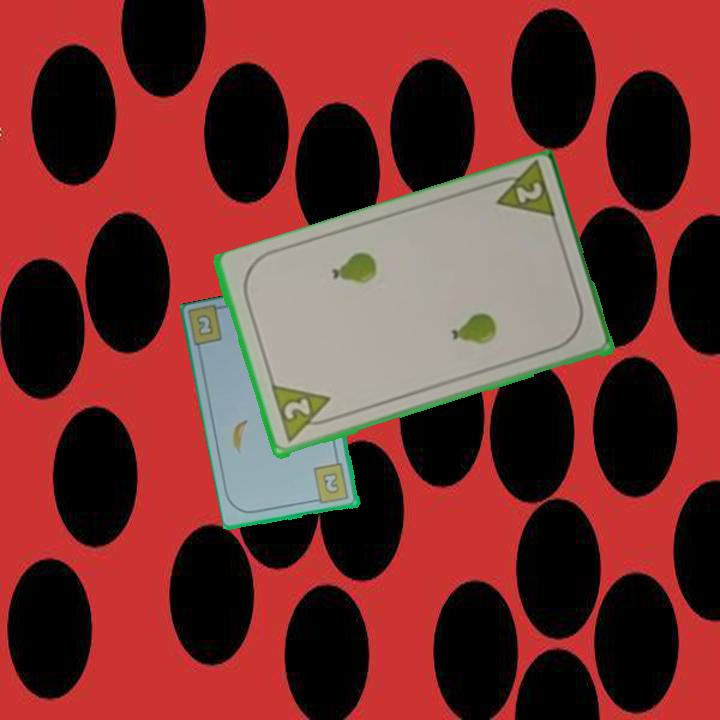2b: (310, 460, 352, 507), (193, 311, 216, 339)
2p: (484, 161, 560, 225), (267, 382, 339, 446)
